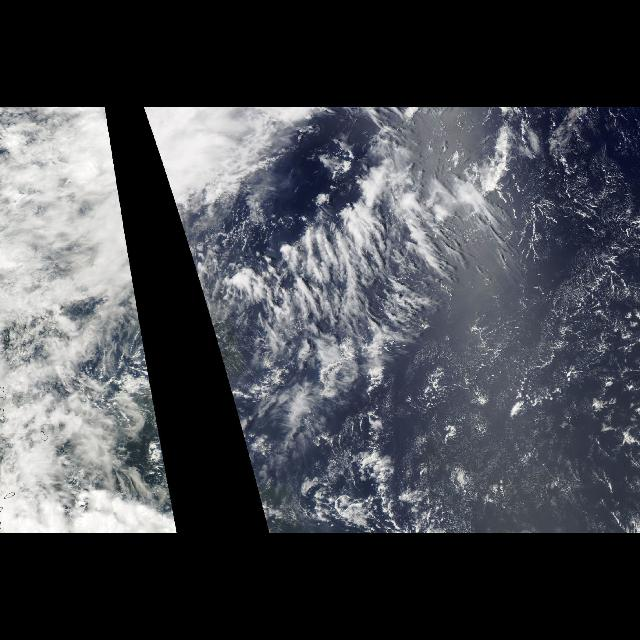Sugar: (380, 274, 640, 532)
